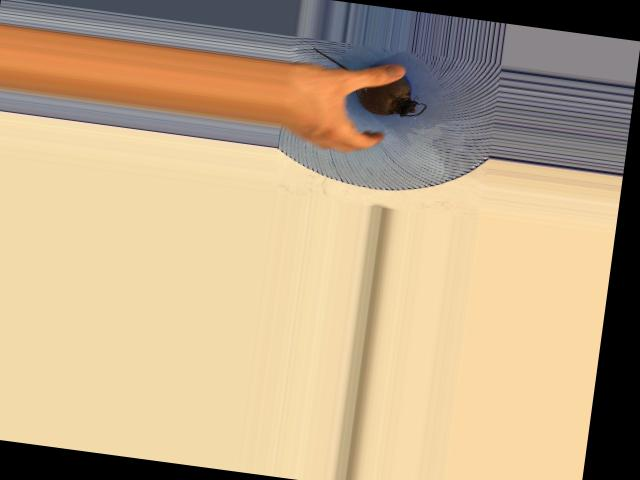beet: (306, 47, 432, 120)
